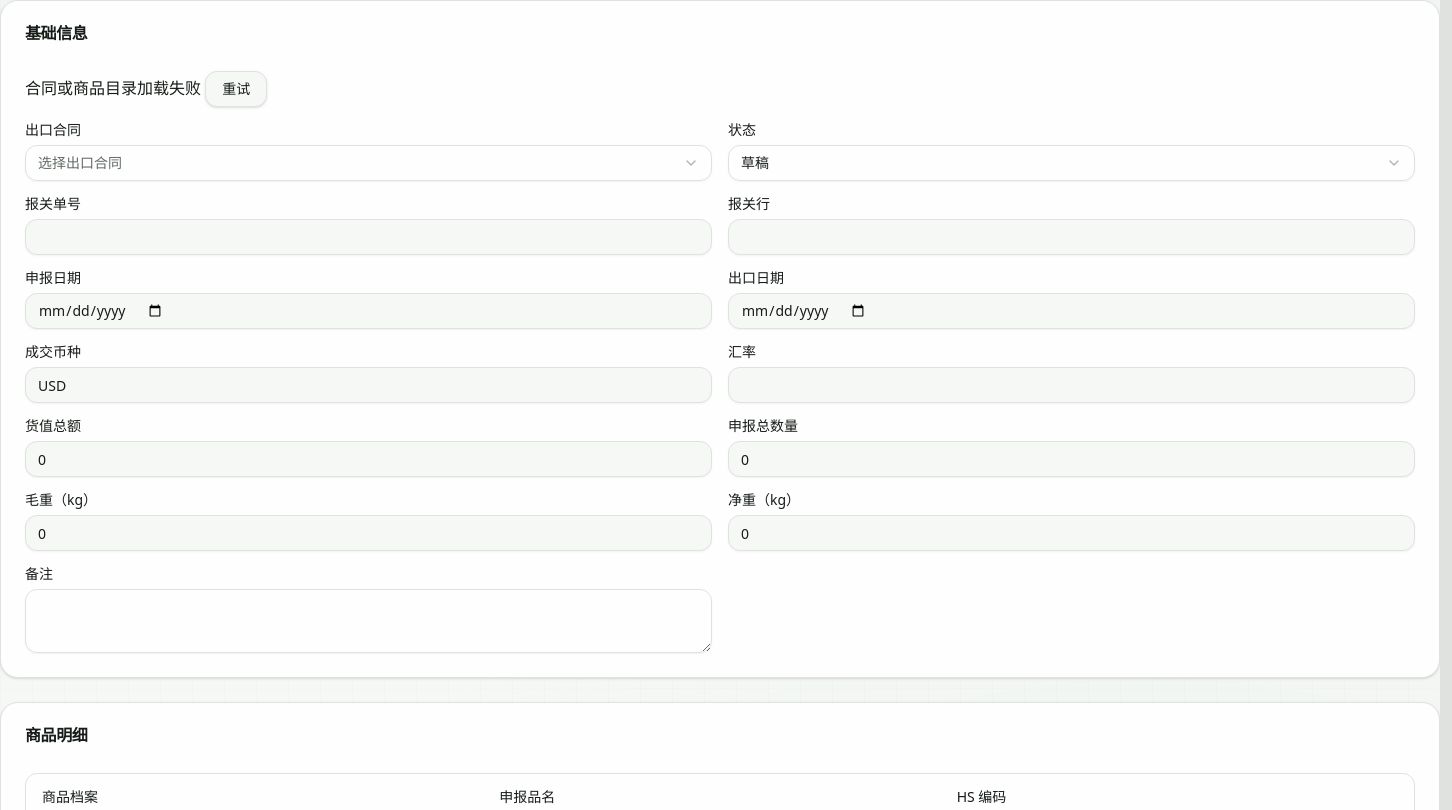
Test: 报关编辑契约 › 目录失败禁止提交，重试后恢复
Expected: the message shows "加载失败", x1=25 y1=77 x2=201 y2=99
Click the button "重试" at (236,89), box x1=205 y1=71 x2=267 y2=107
(page scrolled)
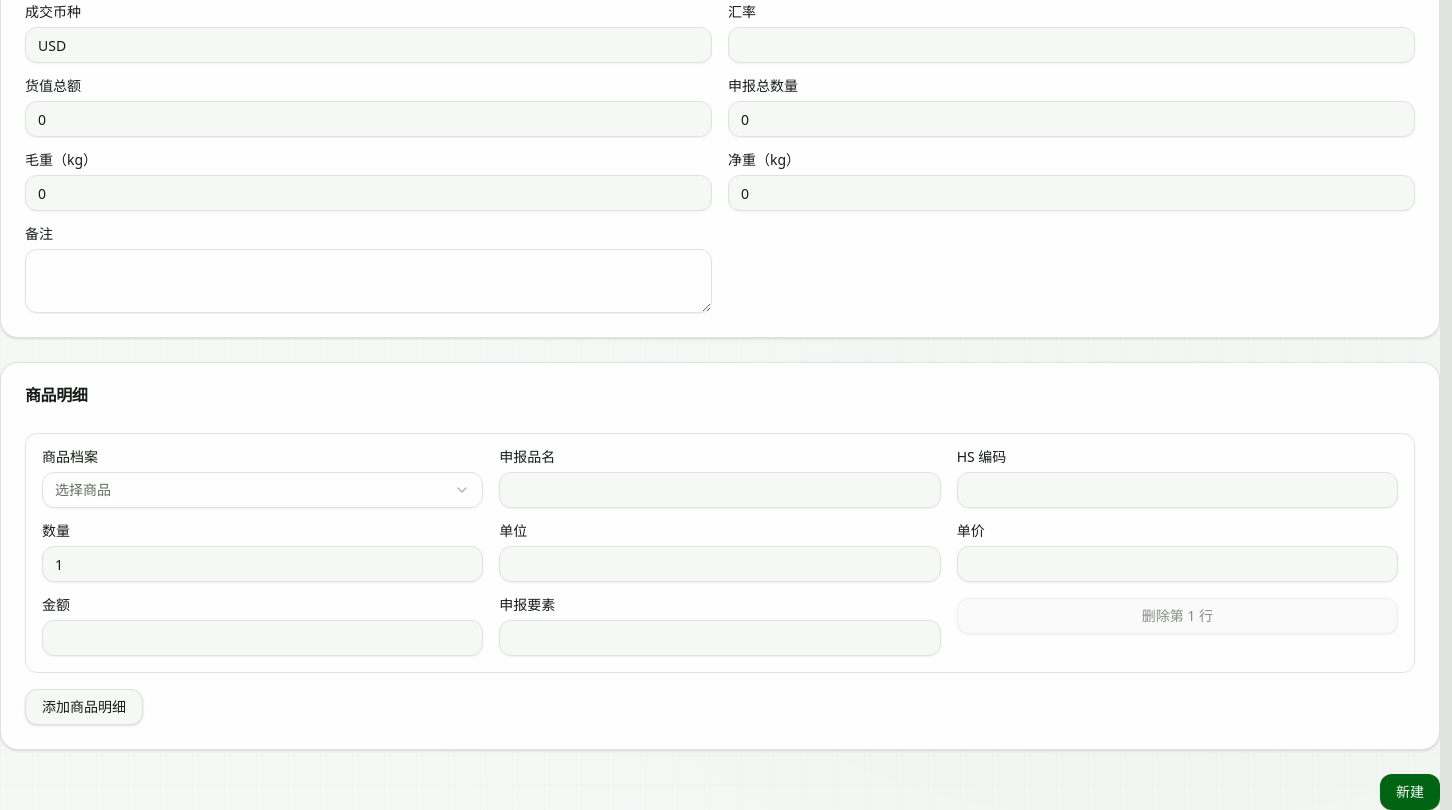
Expected: the button "新建" is enabled, x1=1380 y1=774 x2=1440 y2=809
